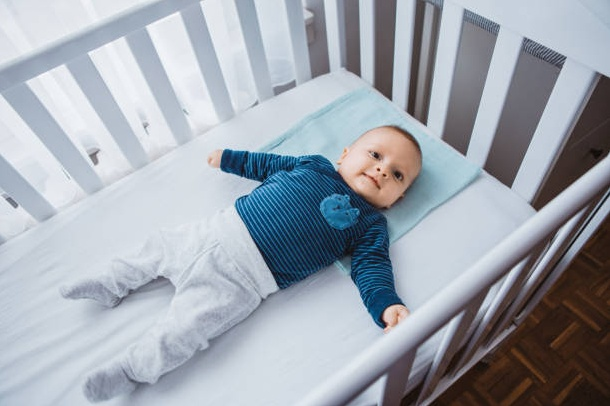baby: (60, 126, 421, 400)
crib: (112, 0, 609, 404)
